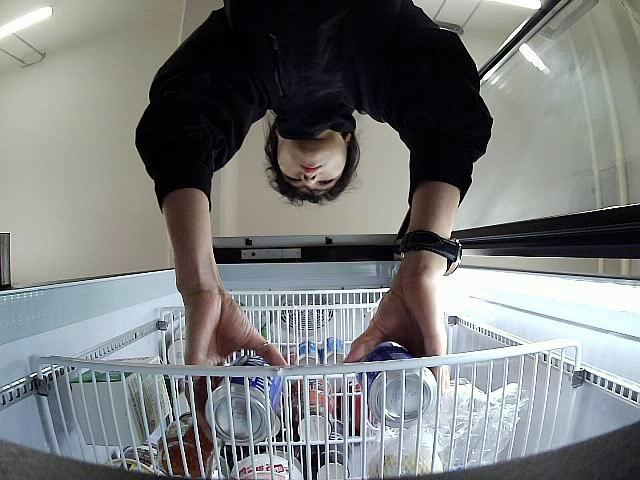13_pocariSweat: (356, 341, 438, 430), (205, 354, 283, 444)
